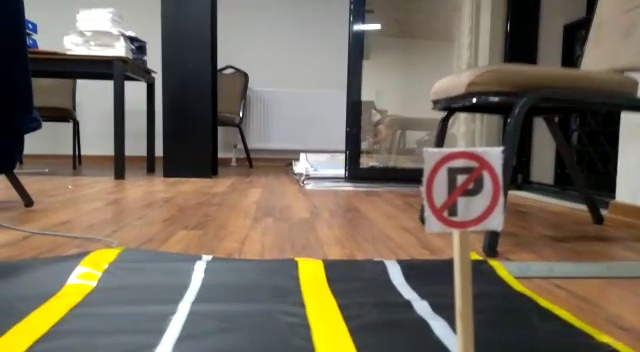park_yapilmaz: (421, 145, 504, 234)
